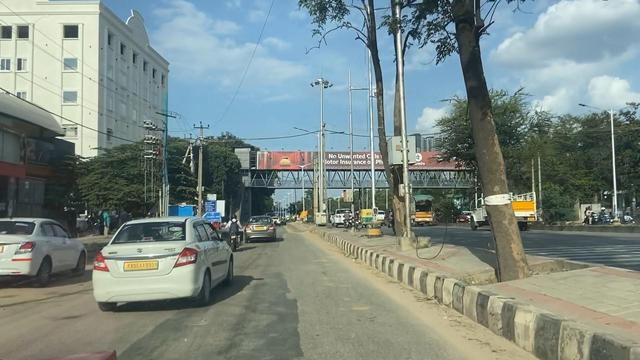LMV: (92, 213, 219, 317), (226, 213, 241, 252)
UnsurfacedRoad: (197, 300, 307, 353)
